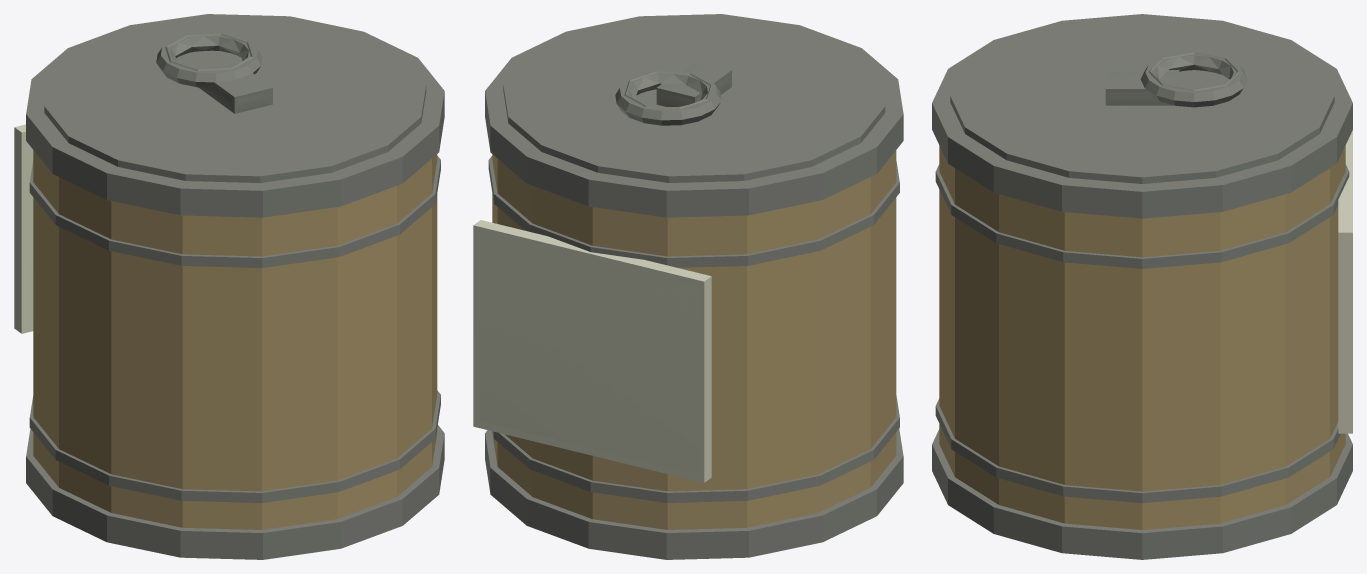
The model's file is CannedFood.glb.
3 views of the same model, side by side, from view 1: azimuth 30°, elevation 25°; view 2: azimuth 150°, elevation 25°; view 3: azimuth 270°, elevation 25° (orthographic).
Visible parts, largest first — view 1: LOD0_SupplyCan, LOD0_GearSteel, LOD1_GearSteel, LOD1_SupplyLabel, LOD0_SupplyLabel; view 2: LOD0_GearSteel, LOD0_SupplyCan, LOD0_SupplyLabel, LOD1_GearSteel, LOD1_SupplyLabel; view 3: LOD0_SupplyCan, LOD0_GearSteel, LOD1_GearSteel, LOD1_SupplyLabel.
Part boxes in pixels (bbox=[...]): LOD0_SupplyCan: bbox=[33, 150, 437, 529]; LOD0_GearSteel: bbox=[26, 14, 444, 559]; LOD1_GearSteel: bbox=[32, 16, 438, 530]; LOD1_SupplyLabel: bbox=[14, 124, 33, 333]; LOD0_SupplyLabel: bbox=[28, 145, 33, 325]; LOD0_GearSteel: bbox=[485, 14, 903, 559]; LOD0_SupplyCan: bbox=[492, 150, 896, 529]; LOD0_SupplyLabel: bbox=[479, 234, 697, 474]; LOD1_GearSteel: bbox=[490, 16, 896, 530]; LOD1_SupplyLabel: bbox=[473, 220, 711, 482]; LOD0_SupplyCan: bbox=[939, 146, 1345, 529]; LOD0_GearSteel: bbox=[932, 14, 1352, 559]; LOD1_GearSteel: bbox=[933, 14, 1352, 532]; LOD1_SupplyLabel: bbox=[1338, 130, 1352, 433].
Bounding box in the file's own units: 0.114 × 0.1195 × 0.114.
